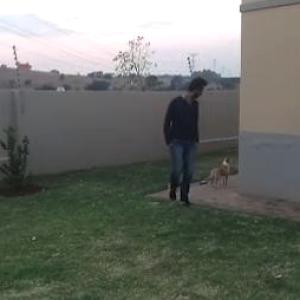follow: (164, 69, 207, 212)
